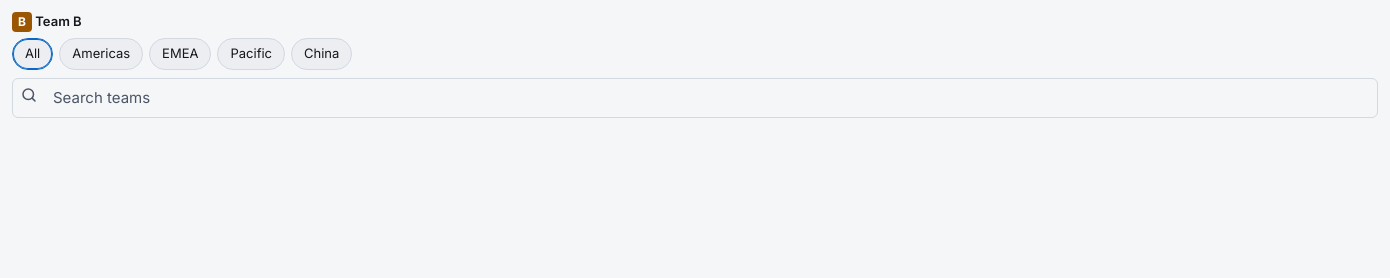
Test case: TeamCombobox › region chips narrow the list
The width and height of the screenshot is (1390, 278).
Click the button "China": point(322, 54) 291,38 -> 352,70
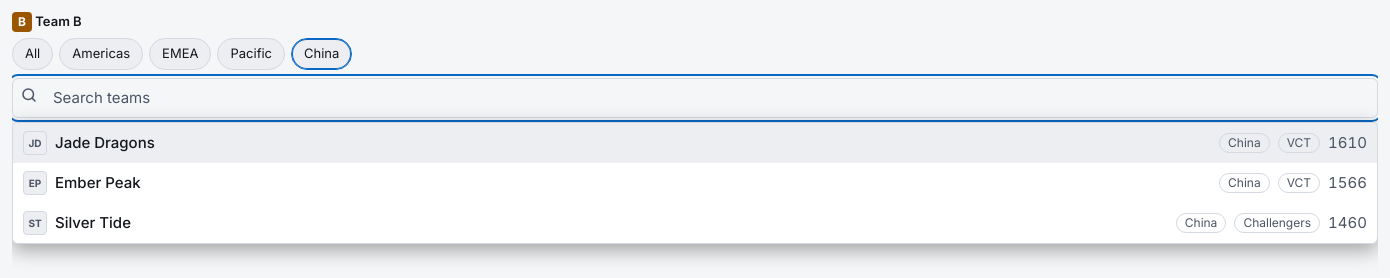
Expected: the number of options is 3, 13,123 -> 1377,163; 13,163 -> 1377,203; 13,203 -> 1377,243
